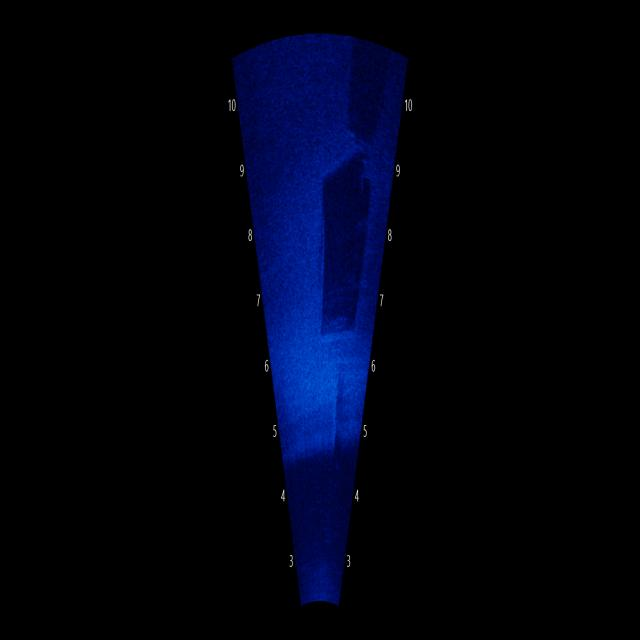square: (309, 148, 370, 374)
